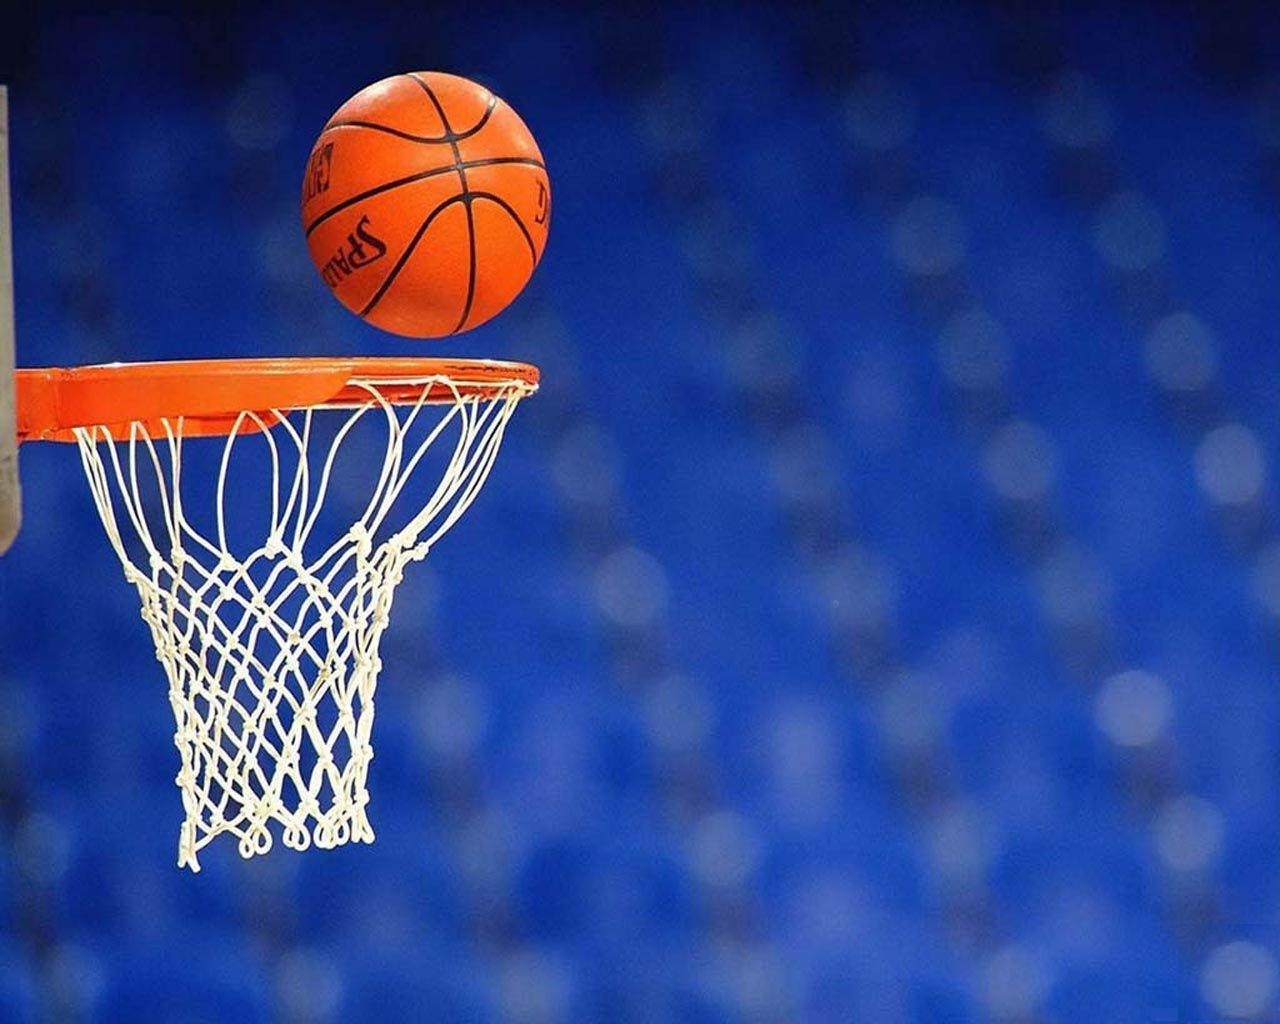basketball: (299, 66, 555, 340)
